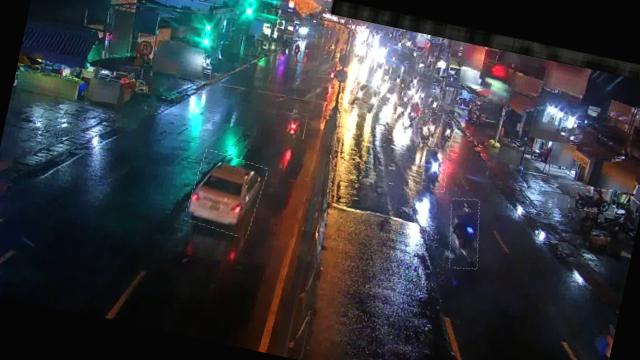Bike: (440, 195, 488, 271), (568, 183, 618, 216), (418, 146, 451, 192), (434, 118, 456, 152), (422, 110, 442, 146), (284, 111, 308, 139), (412, 114, 434, 142), (406, 97, 423, 123), (380, 80, 397, 105), (399, 89, 414, 113), (427, 92, 442, 112)
Car: (185, 149, 268, 237), (347, 81, 381, 114)
